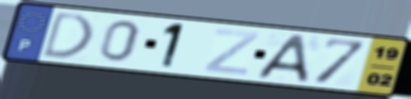0: (98, 18, 144, 64)
1: (157, 21, 188, 72)
7: (313, 37, 369, 87)
A: (253, 34, 311, 84)
D: (38, 10, 96, 60)
Z: (201, 27, 262, 77)
